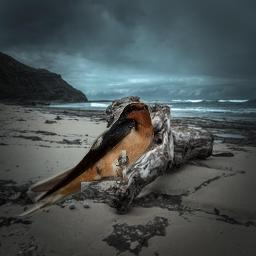Swallow: (14, 102, 154, 216)
